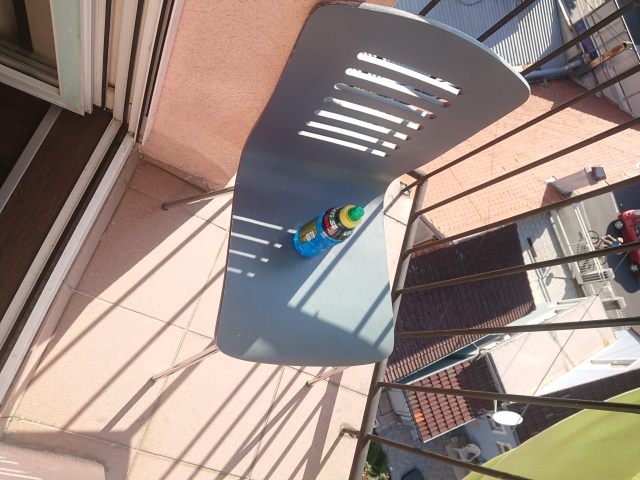Vindi Iso Sport Forest Strawberries 500mL: (292, 202, 365, 258)
